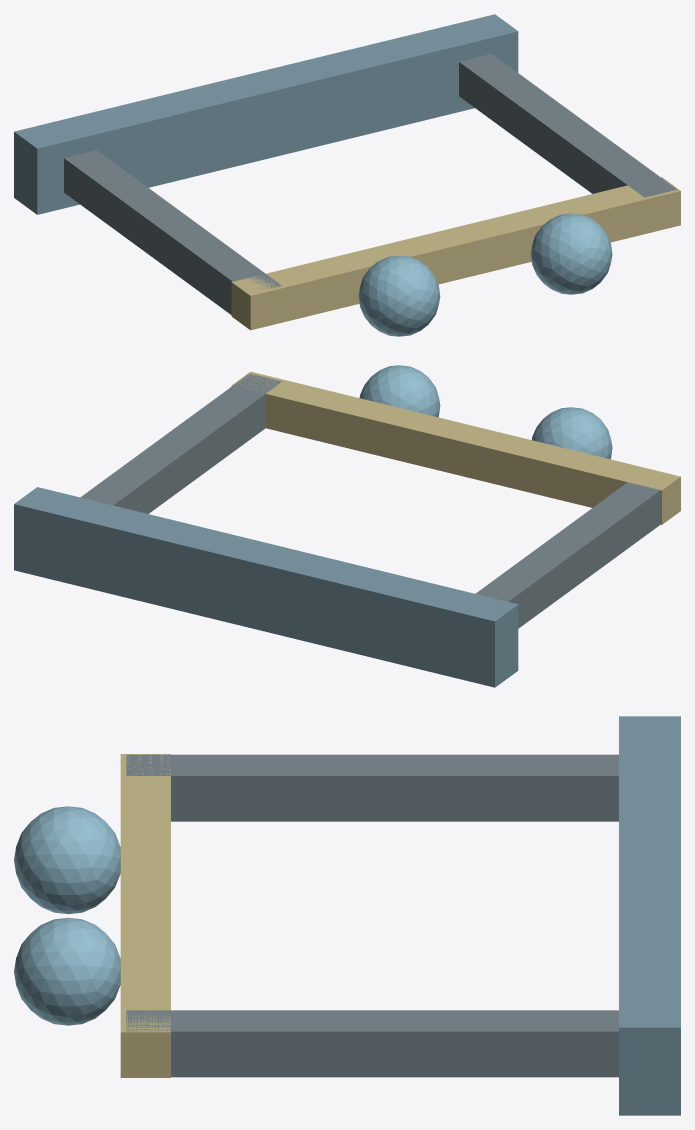
Rendered from branch-gate-high.glb.
3 views of the same model, one above another, from view 1: azimuth 30°, elevation 25°; view 2: azimuth 150°, elevation 25°; view 3: azimuth 270°, elevation 25° (orthographic). The views are drawn at different scales.
Visible parts, largest first — view 1: base, beam, post--0.78, post-0.78, orb--0.34, orb-0.34; view 2: base, beam, post-0.78, post--0.78, orb--0.34, orb-0.34; view 3: post--0.78, post-0.78, base, beam, orb--0.34, orb-0.34.
Part boxes in pixels (x1,y1,x2,y2): base: (14, 14, 518, 214); beam: (231, 177, 680, 330); post--0.78: (64, 150, 281, 314); post-0.78: (459, 54, 676, 197); orb--0.34: (358, 255, 440, 336); orb-0.34: (530, 213, 612, 294); base: (14, 487, 518, 687); beam: (231, 371, 680, 524); post-0.78: (80, 373, 281, 513); post--0.78: (475, 482, 660, 628); orb--0.34: (532, 407, 612, 459); orb-0.34: (359, 365, 440, 417); post--0.78: (126, 754, 618, 821); post-0.78: (126, 1010, 618, 1077); base: (619, 716, 680, 1115); beam: (120, 754, 170, 1077); orb--0.34: (14, 806, 120, 914); orb-0.34: (14, 917, 120, 1025).
Size of the model in its own units: 1.9 by 0.28 by 1.72.
